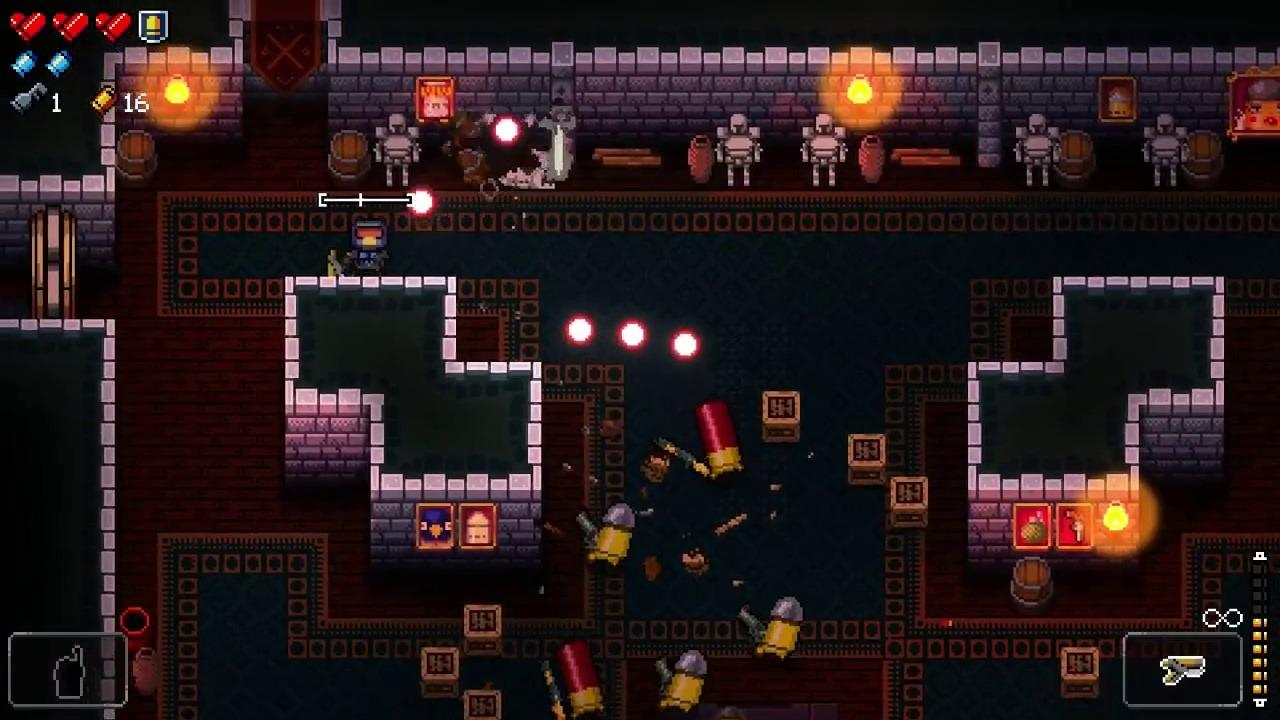blocked_door: (242, 0, 328, 106)
bullet: (616, 319, 647, 352), (565, 314, 595, 346), (671, 330, 701, 361), (407, 187, 436, 219), (494, 117, 522, 145)
bullet_kin: (659, 651, 709, 711), (757, 596, 803, 660), (596, 501, 636, 567)
locked_door: (31, 209, 77, 319)
player: (351, 218, 388, 273)
red_shotgun_kin: (695, 400, 746, 478), (558, 637, 604, 716)
